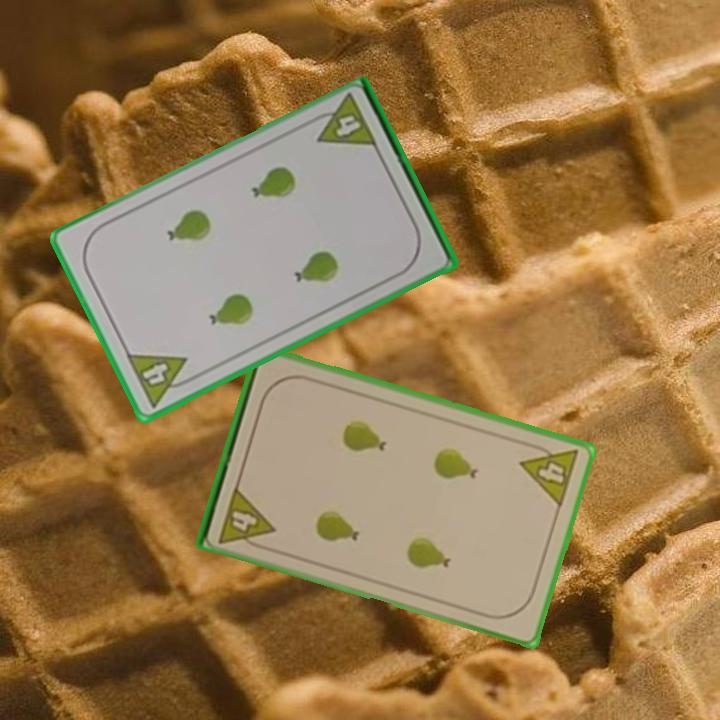4p: (516, 438, 582, 510), (122, 350, 199, 411), (305, 91, 381, 152), (215, 482, 278, 553)
